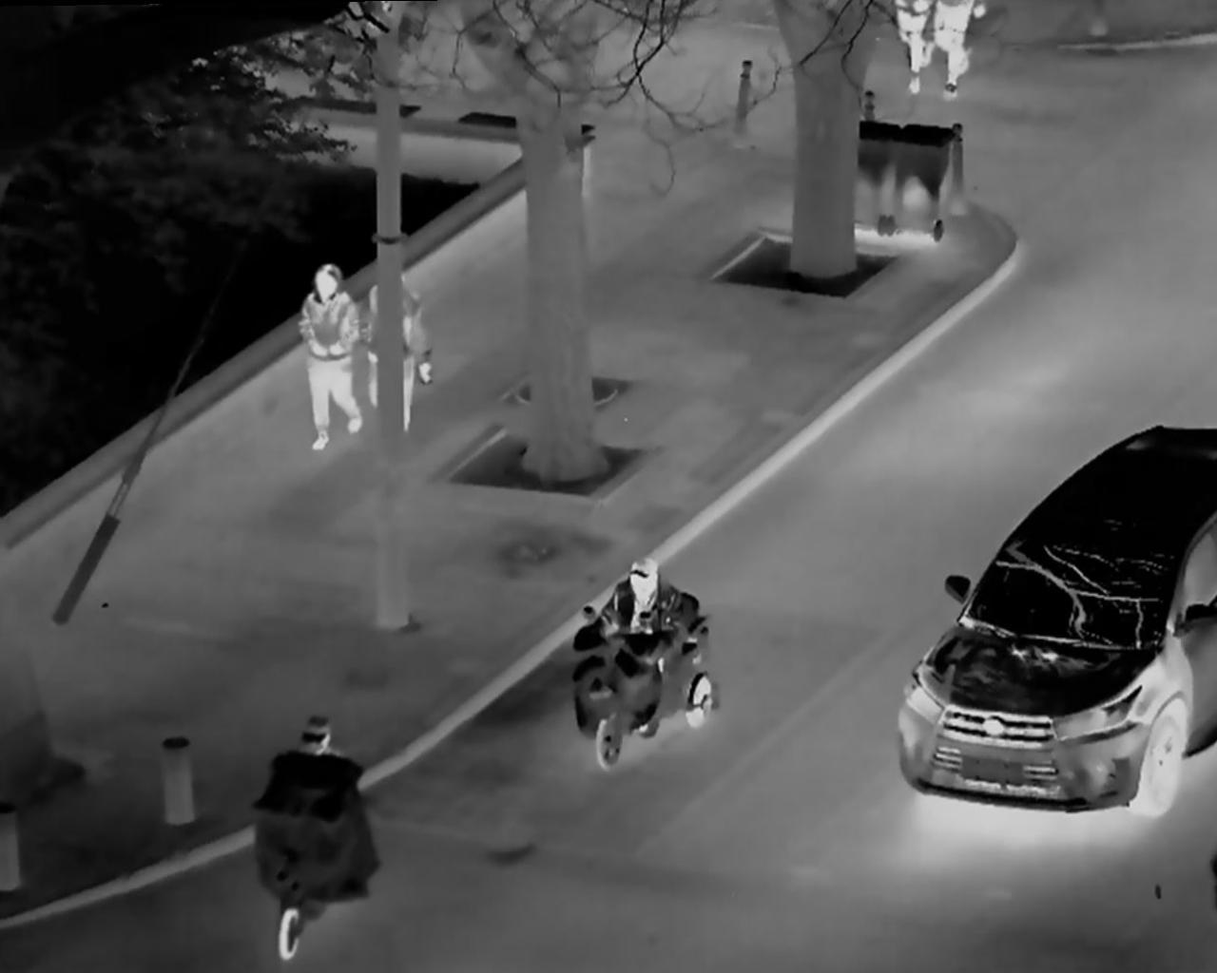person: (587, 543, 692, 754), (264, 696, 358, 914), (289, 248, 365, 454)
